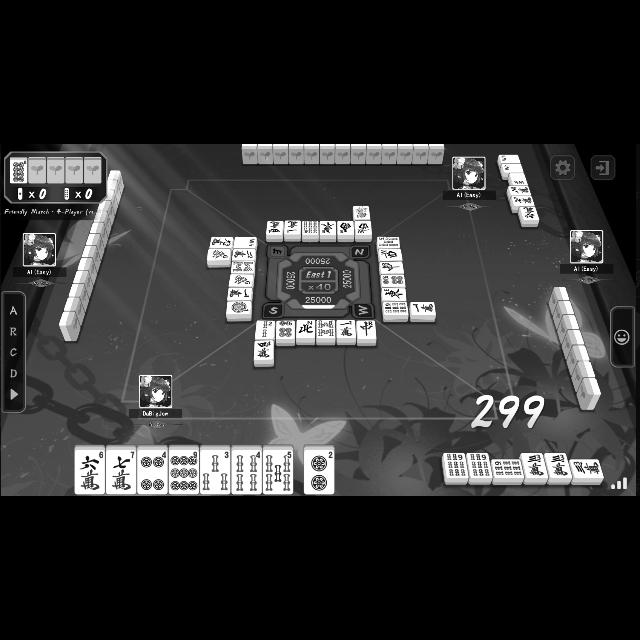1m: (337, 320, 355, 340), (411, 302, 435, 316), (228, 288, 252, 300), (286, 220, 300, 236)
1p: (226, 302, 252, 314)
1s: (354, 205, 370, 221)
2m: (233, 248, 254, 260)
2p: (304, 451, 334, 493)
2s: (256, 320, 274, 340)
3m: (524, 454, 546, 478), (572, 460, 600, 478), (550, 454, 568, 478)
3s: (200, 451, 230, 493)
4m: (254, 341, 274, 363), (266, 221, 284, 237)
4p: (138, 450, 168, 492)
4s: (233, 452, 261, 492)
5s: (264, 451, 292, 492), (378, 236, 400, 248)
6m: (76, 450, 104, 496), (520, 207, 540, 223)
6p: (276, 322, 294, 338), (379, 276, 405, 286)
6s: (302, 220, 320, 236)
7m: (107, 451, 137, 493), (511, 196, 535, 206)
8m: (508, 187, 532, 197)
8p: (11, 160, 27, 182)
8s: (316, 320, 336, 338), (231, 262, 255, 274)
9m: (210, 238, 232, 248)
9p: (170, 451, 198, 492)
9s: (448, 452, 466, 480), (493, 461, 522, 477), (471, 454, 489, 478), (382, 303, 408, 317)
chun: (358, 321, 377, 339), (380, 262, 404, 274)
haku: (235, 236, 258, 248), (510, 174, 528, 186), (504, 163, 524, 173), (500, 155, 520, 163)
hatsu: (229, 274, 253, 286), (207, 250, 231, 262)
nan: (338, 222, 354, 236)
pe: (297, 321, 313, 337)
sha: (354, 222, 372, 236), (378, 250, 402, 260)
tou: (382, 288, 406, 302), (319, 221, 336, 237)
